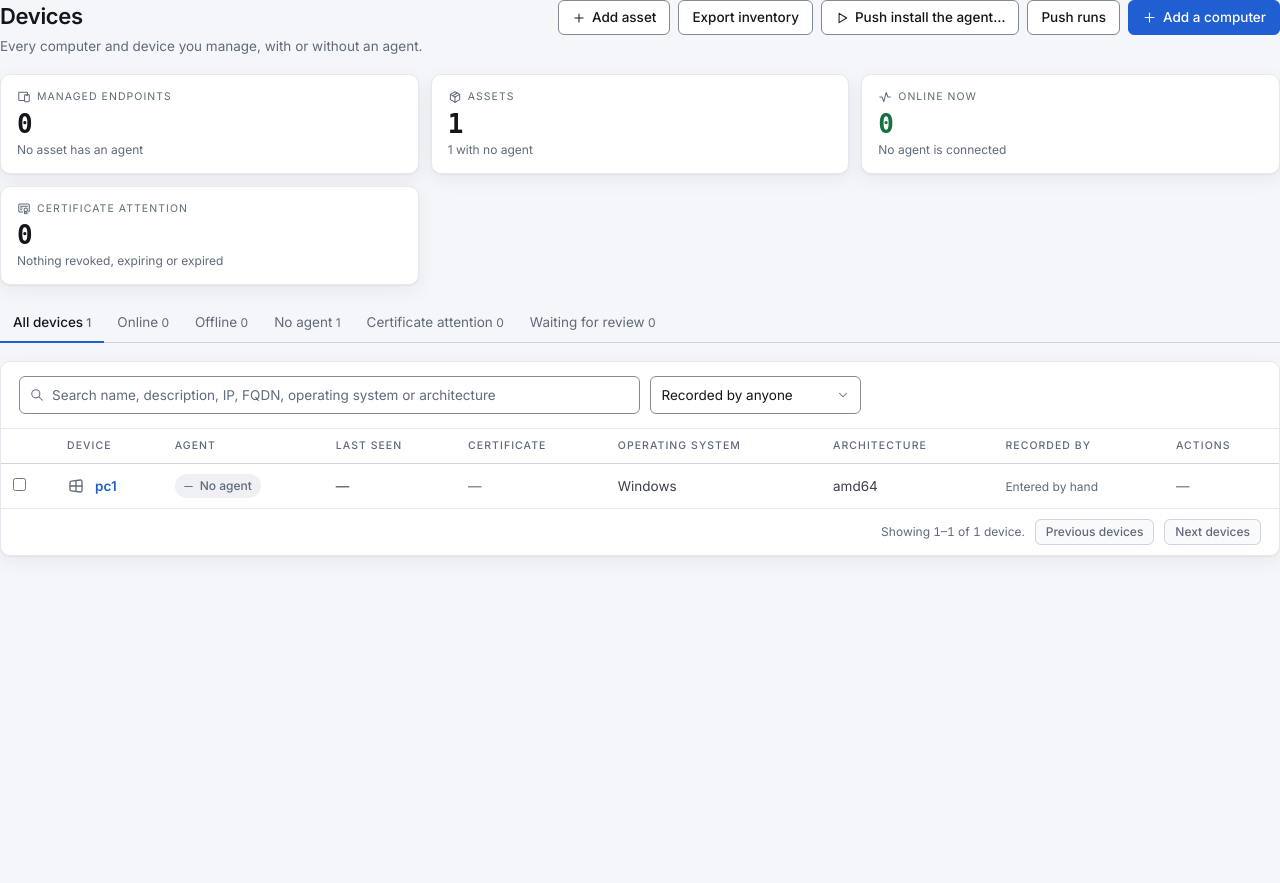
Test: the push install flow › stops a Windows machine with no DNS name before any request, and says how to fix it
Expected: the link "pc1" is shown, left=95, top=478, right=117, bottom=494
What coordinates should you click on to do the following:
click the checkbox named "Select pc1 for push install"
I would click on:
 (20, 485)
Its box is left=13, top=478, right=26, bottom=491.
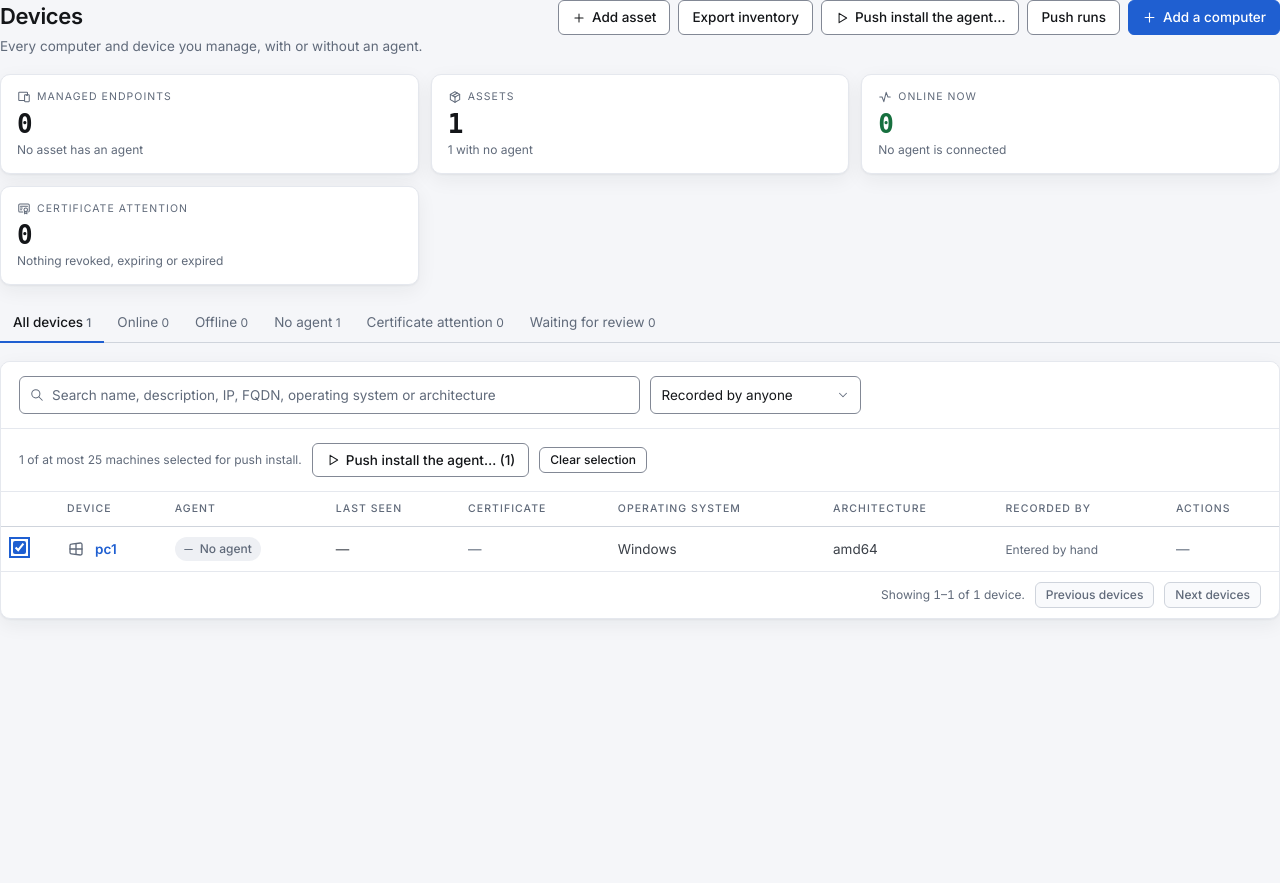
What coordinates should you click on to do the following:
click the button "Push install the agent… (1)"
I would click on:
 (420, 460)
Its box is left=312, top=443, right=529, bottom=477.
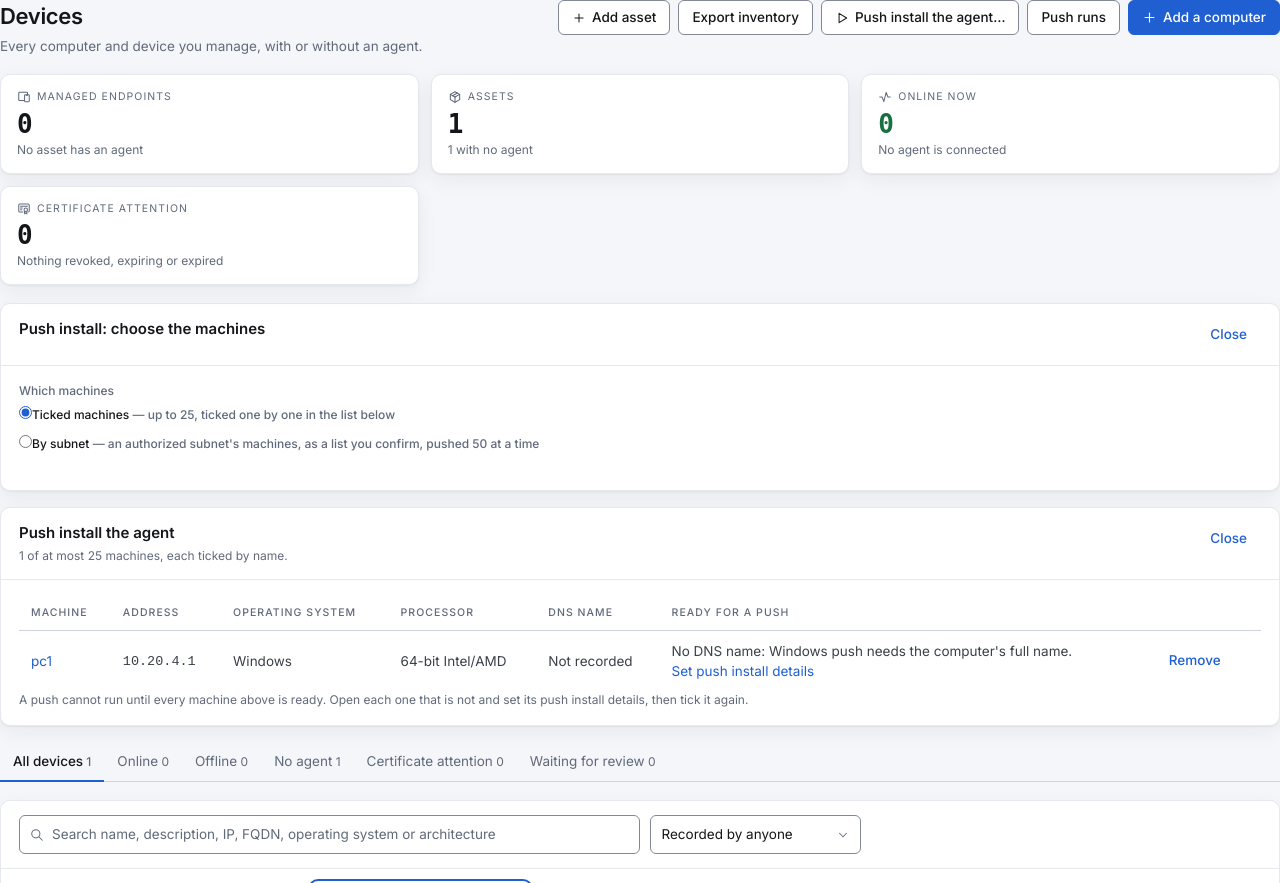
Expected: the text "No DNS name: Windows push needs the computer's full name." is shown, left=672, top=641, right=1131, bottom=661
